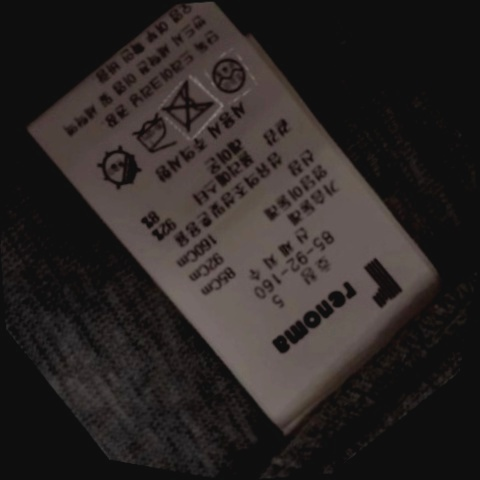DN_wash: (157, 76, 225, 138)
dry_clean_petrol_only: (204, 47, 258, 101)
iron_low: (123, 108, 184, 164)
line_dry_in_shade: (90, 140, 155, 198)
